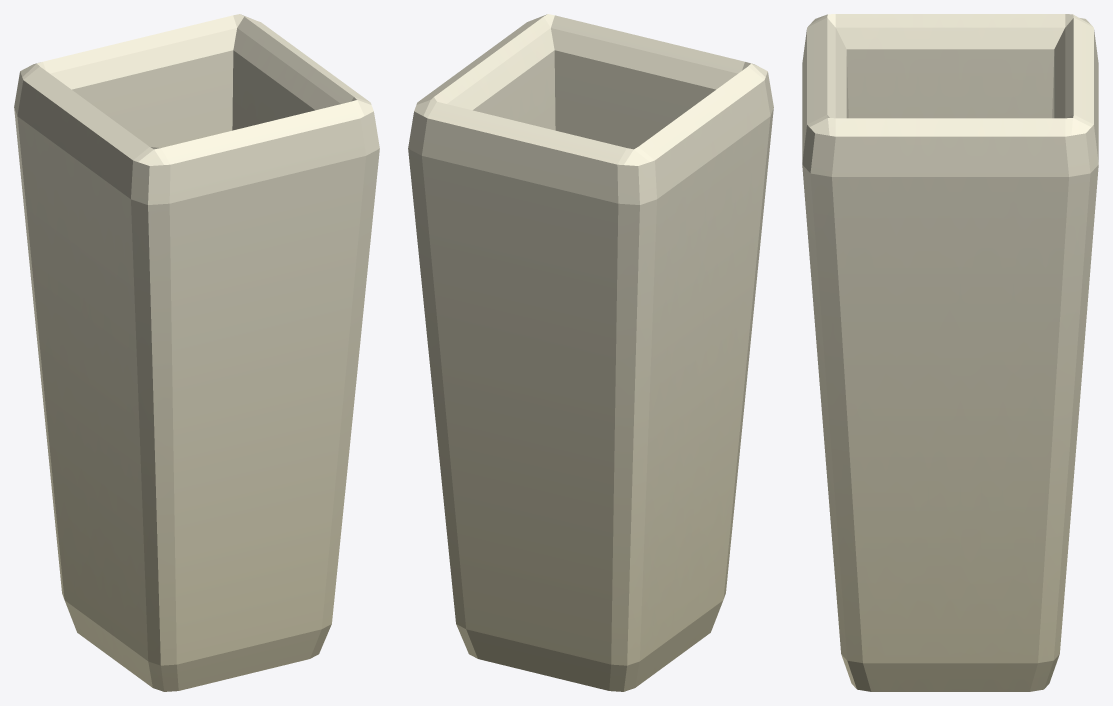
File: PlantPot_08.fbx
The picture shows the model from 3 angles, left to right: view 1: azimuth 30°, elevation 25°; view 2: azimuth 150°, elevation 25°; view 3: azimuth 270°, elevation 25°; orthographic projection. The views are drawn at different scales.
Visible parts, largest first — view 1: PlantPot_08; view 2: PlantPot_08; view 3: PlantPot_08.
Boxes of the visible parts, box(x1,y1,x2,y2) form: PlantPot_08: box(14, 14, 379, 691); PlantPot_08: box(408, 14, 773, 691); PlantPot_08: box(802, 14, 1098, 691).
Size of the model in its own units: 11.13 by 24.19 by 11.13.
